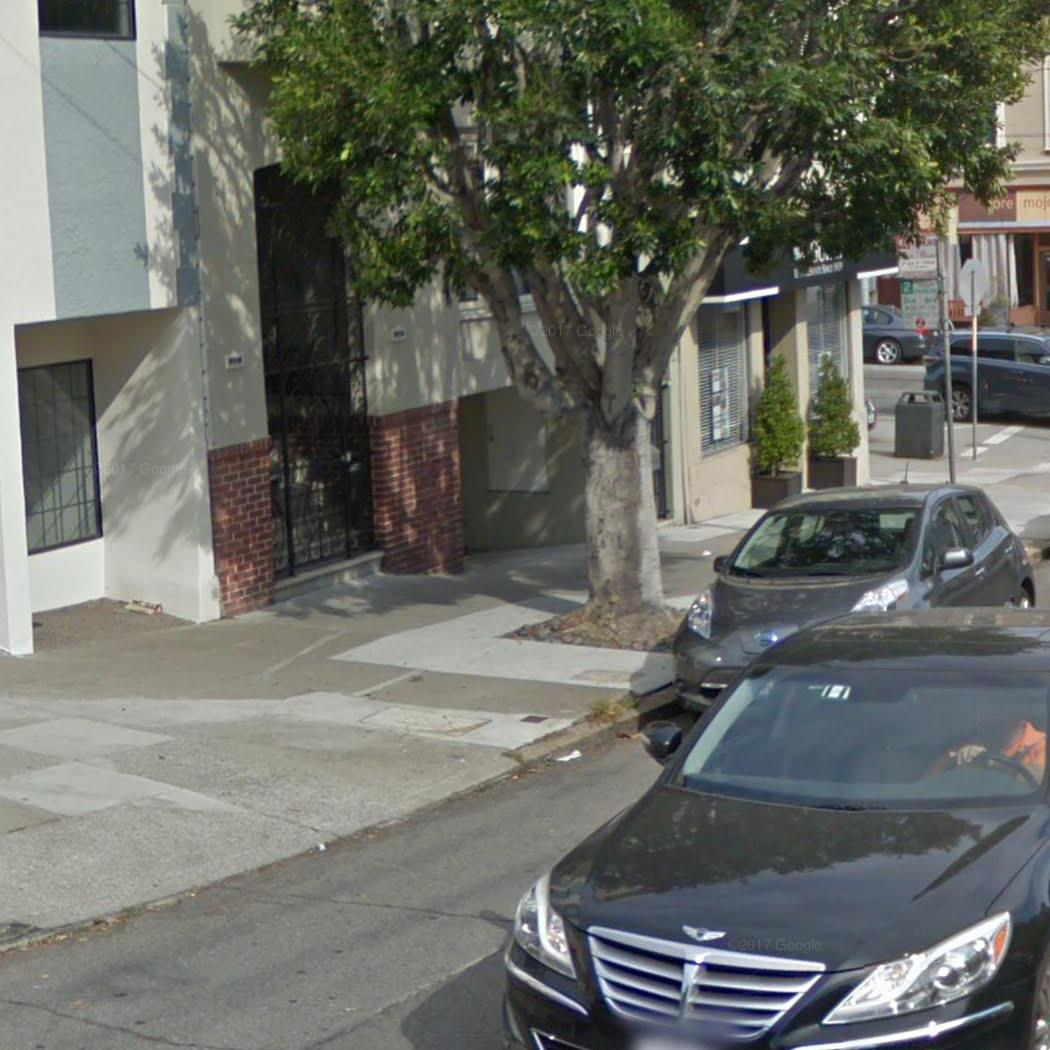2 Hour Parking: (896, 280, 945, 333)
No Parking: (889, 228, 942, 282)
